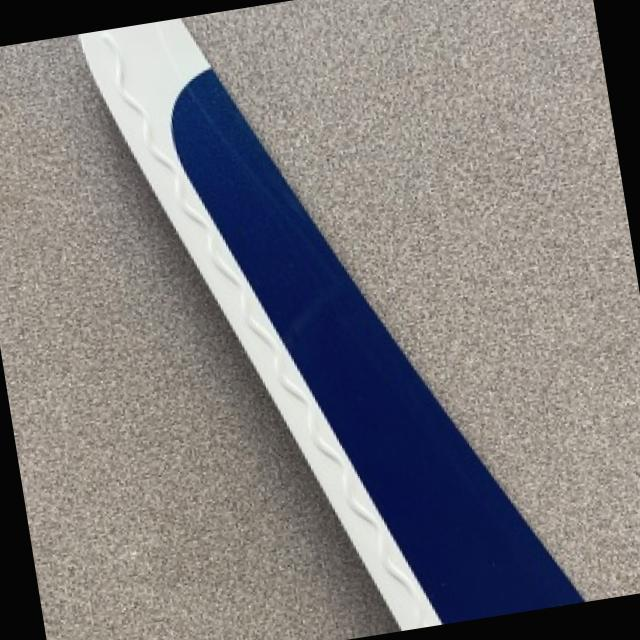healthy: (80, 18, 583, 629)
